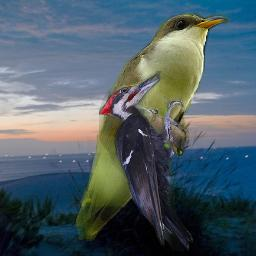Cuckoo: (73, 12, 229, 241)
Woodpecker: (99, 71, 193, 251)
